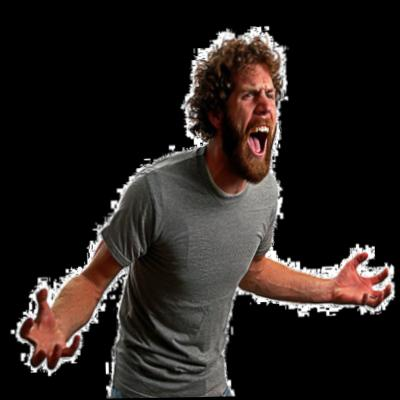angry: (227, 57, 278, 180)
